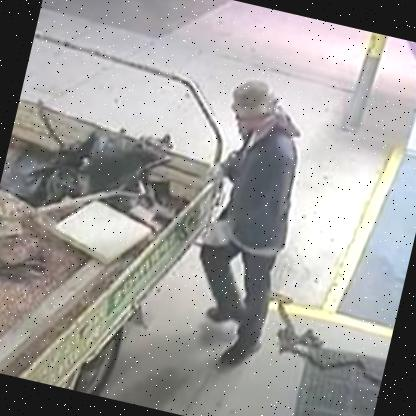person: (162, 64, 346, 380)
